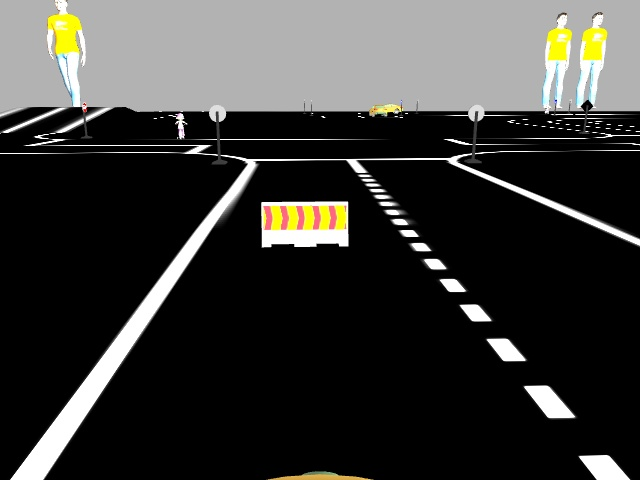ClosedRoadStand: (261, 203, 348, 244)
